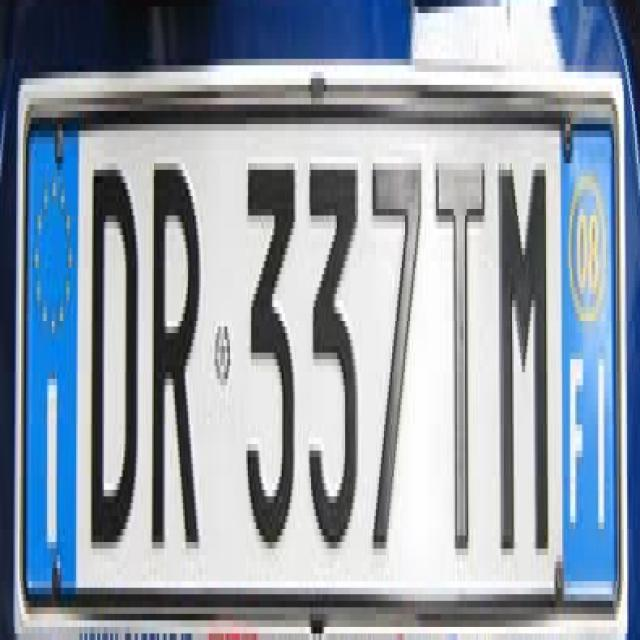EU: (20, 91, 622, 640)
Italie: (24, 121, 76, 585)
